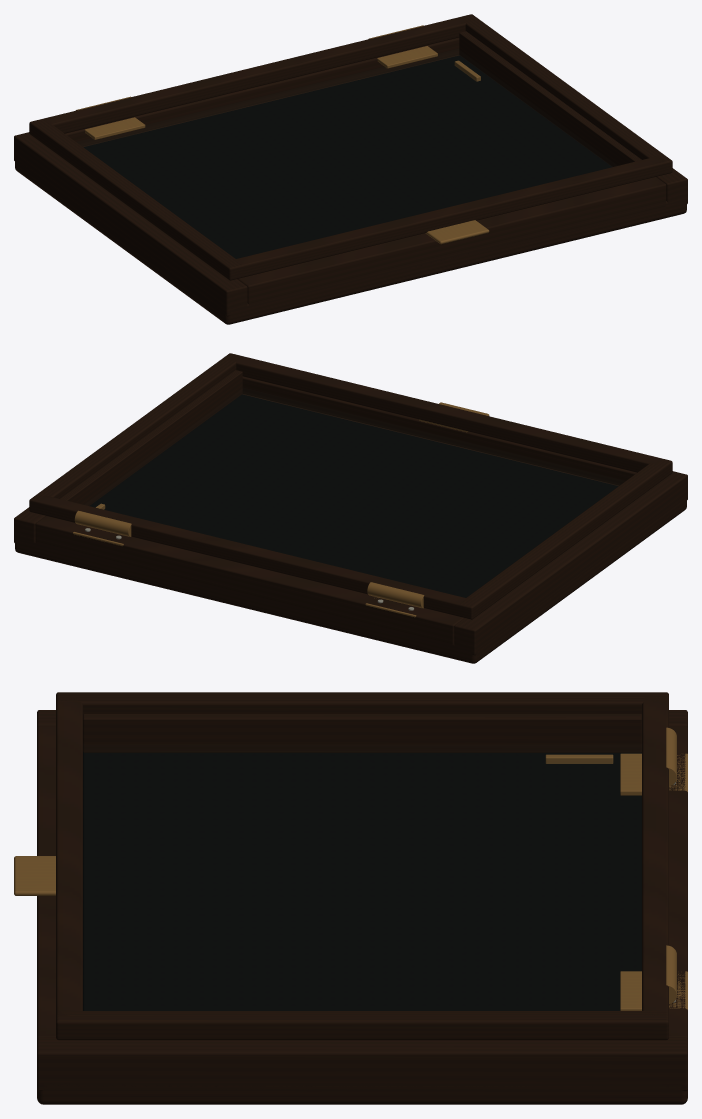
File: C07_ContactFrame.fbx
3 renders of one model, top to bottom at view 1: azimuth 30°, elevation 25°; view 2: azimuth 150°, elevation 25°; view 3: azimuth 270°, elevation 25°, orthographic. The views are drawn at different scales.
Parts seen in each view (by area): view 1: Body_Mesh, PressurePlate_Mesh, Latch_Mesh; view 2: Body_Mesh, PressurePlate_Mesh; view 3: Body_Mesh, PressurePlate_Mesh, Latch_Mesh.
Part boxes in pixels (left/top/right/bottom): Body_Mesh: left=14, top=25, right=687, bottom=324; PressurePlate_Mesh: left=29, top=14, right=672, bottom=280; Latch_Mesh: left=425, top=220, right=489, bottom=244; Body_Mesh: left=14, top=376, right=687, bottom=663; PressurePlate_Mesh: left=29, top=353, right=672, bottom=619; Body_Mesh: left=37, top=710, right=687, bottom=1104; PressurePlate_Mesh: left=56, top=692, right=668, bottom=1040; Latch_Mesh: left=14, top=856, right=55, bottom=895.
Size of the model in its own units: 0.3 by 0.032 by 0.2485.
